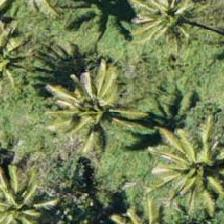coconut_tree: (33, 45, 123, 135), (161, 119, 223, 209), (122, 0, 212, 61), (0, 162, 63, 223)
